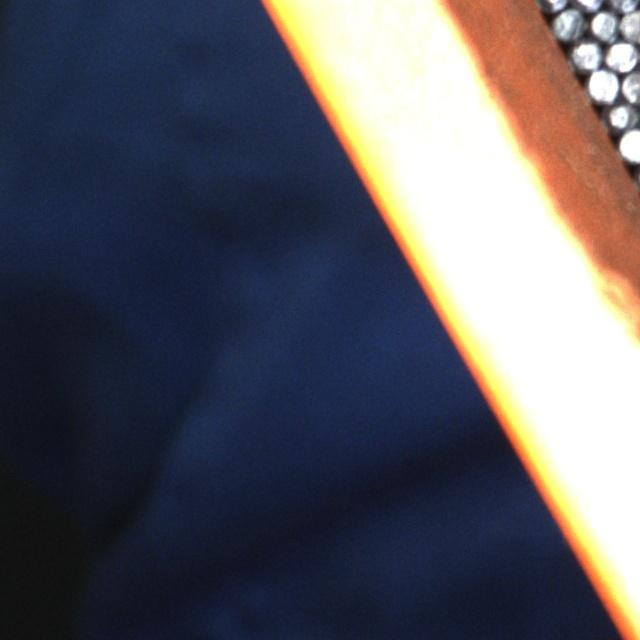tool: (587, 6, 621, 40), (604, 97, 638, 131), (604, 37, 638, 71), (552, 6, 586, 40), (586, 68, 619, 101), (570, 38, 603, 71), (618, 126, 640, 160), (619, 69, 640, 103), (620, 6, 640, 41)
